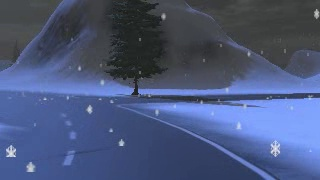Lane: (0, 89, 278, 179)
